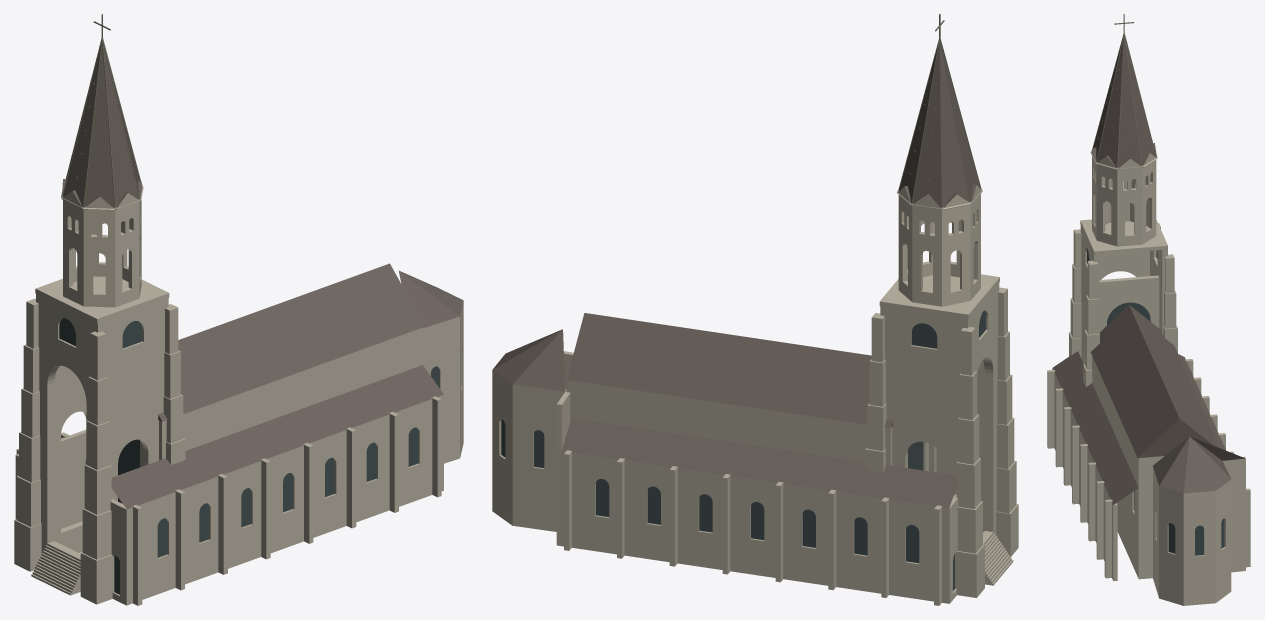
File: basilique-visitation-annecy-near.glb
3 views of the same model, side by side, from view 1: azimuth 30°, elevation 25°; view 2: azimuth 150°, elevation 25°; view 3: azimuth 270°, elevation 25° (orthographic). The views are drawn at different scales.
Visible parts, largest first — view 1: basilique-visitation-annecy-0-stone, basilique-visitation-annecy-0-roof, basilique-visitation-annecy-0-glass, basilique-visitation-annecy-0-metal; view 2: basilique-visitation-annecy-0-stone, basilique-visitation-annecy-0-roof, basilique-visitation-annecy-0-glass, basilique-visitation-annecy-0-metal; view 3: basilique-visitation-annecy-0-stone, basilique-visitation-annecy-0-roof, basilique-visitation-annecy-0-glass, basilique-visitation-annecy-0-metal.
Boxes of the visible parts, box(x1,y1,x2,y2) form: basilique-visitation-annecy-0-stone: box(14, 183, 463, 605); basilique-visitation-annecy-0-roof: box(62, 44, 463, 509); basilique-visitation-annecy-0-glass: box(59, 318, 438, 594); basilique-visitation-annecy-0-metal: box(62, 14, 140, 207); basilique-visitation-annecy-0-stone: box(492, 185, 1018, 605); basilique-visitation-annecy-0-roof: box(492, 43, 980, 508); basilique-visitation-annecy-0-glass: box(501, 310, 986, 590); basilique-visitation-annecy-0-metal: box(898, 14, 981, 207); basilique-visitation-annecy-0-stone: box(1047, 148, 1250, 605); basilique-visitation-annecy-0-roof: box(1052, 37, 1245, 504); basilique-visitation-annecy-0-glass: box(1087, 249, 1224, 555); basilique-visitation-annecy-0-metal: box(1092, 14, 1156, 167).
Size of the model in its own units: 62.91 by 72 by 30.31.
